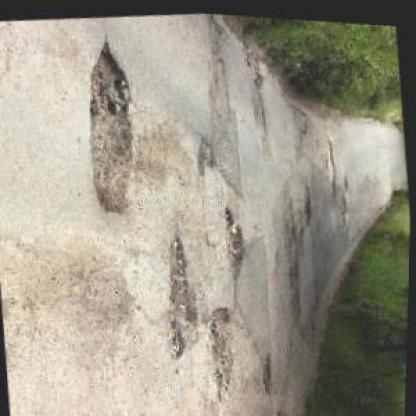pothole: (75, 37, 147, 218), (154, 229, 207, 359), (202, 302, 242, 388), (222, 202, 249, 279), (190, 132, 218, 176), (324, 133, 340, 191), (260, 349, 278, 394), (299, 179, 315, 223)
